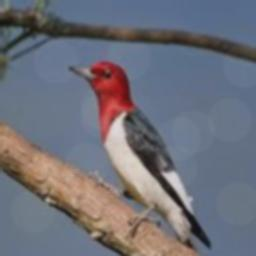Woodpecker: (68, 60, 211, 256)
